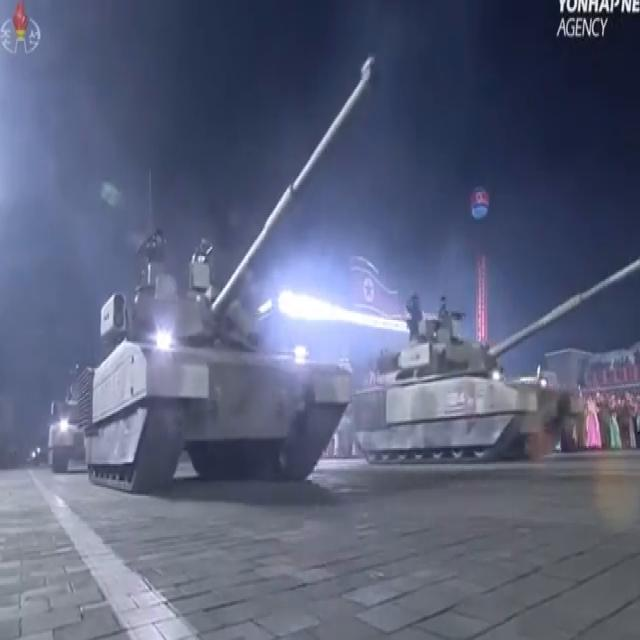north tank: (57, 52, 391, 524), (336, 253, 640, 477)
